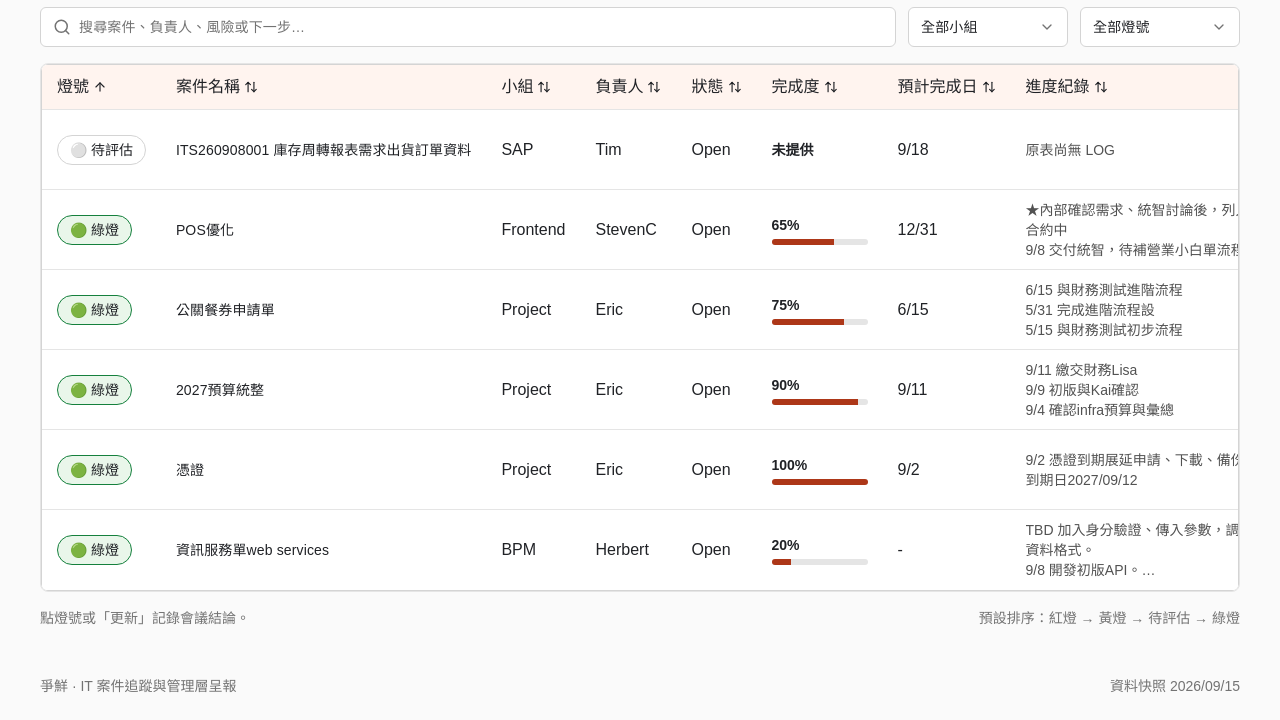
Test case: MeetingView（US-006） › 本機儲存不可用時提示僅保留至離開此頁（SC-008）
(page scrolled)
Click the button with aria-label "修改憑證燈號": (94, 470) [57,454,132,484]
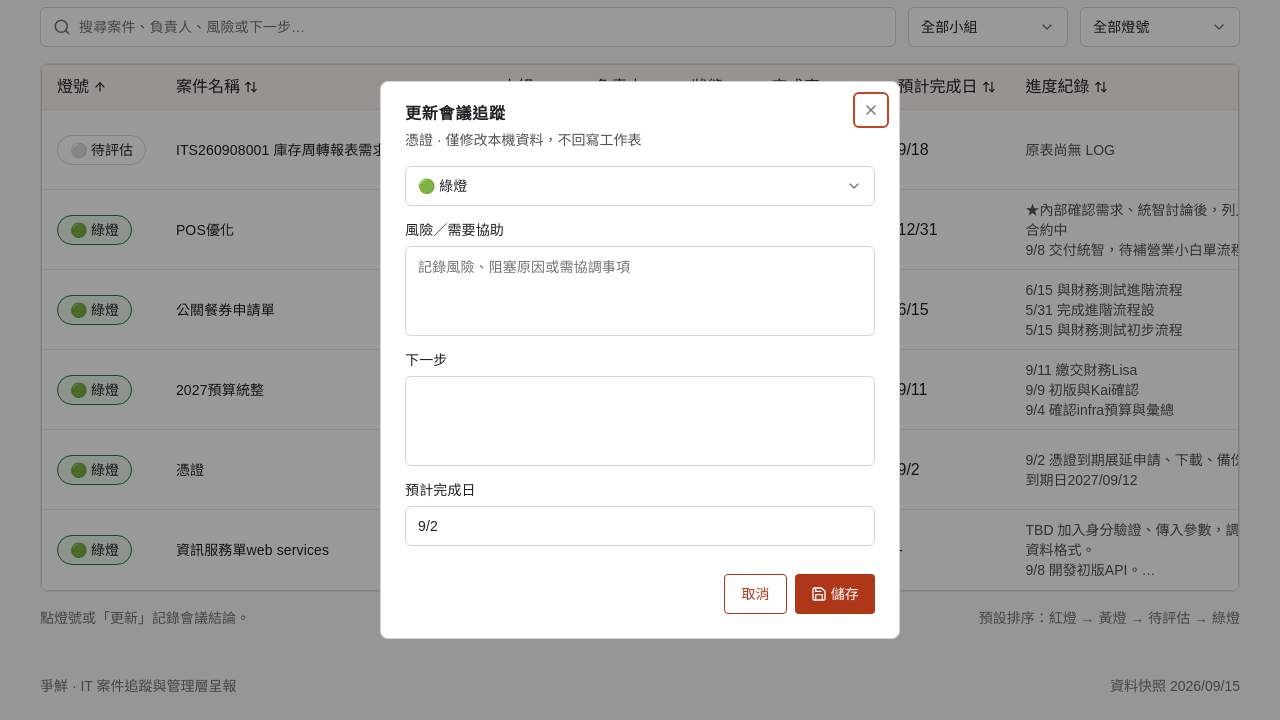
Click the dropdown named "人工燈號": (443, 186) [405,166,875,206]
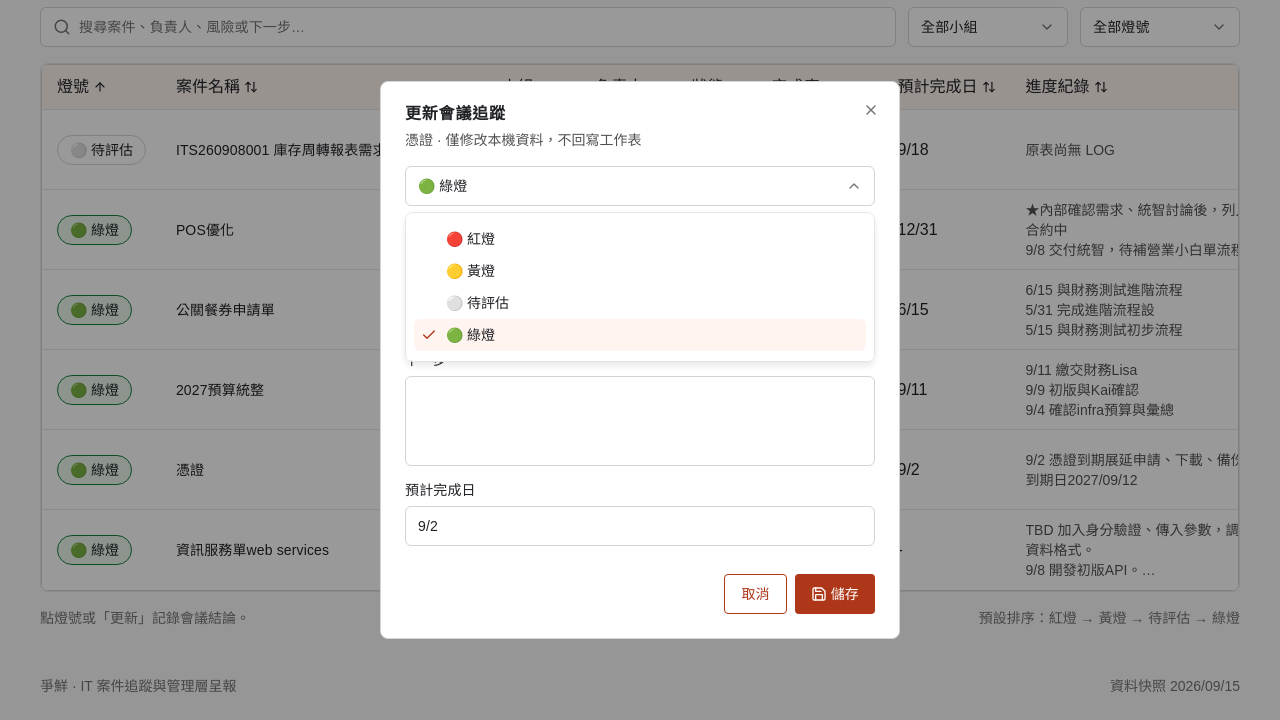
Click the option "🔴 紅燈": (470, 239) [446,231,495,247]
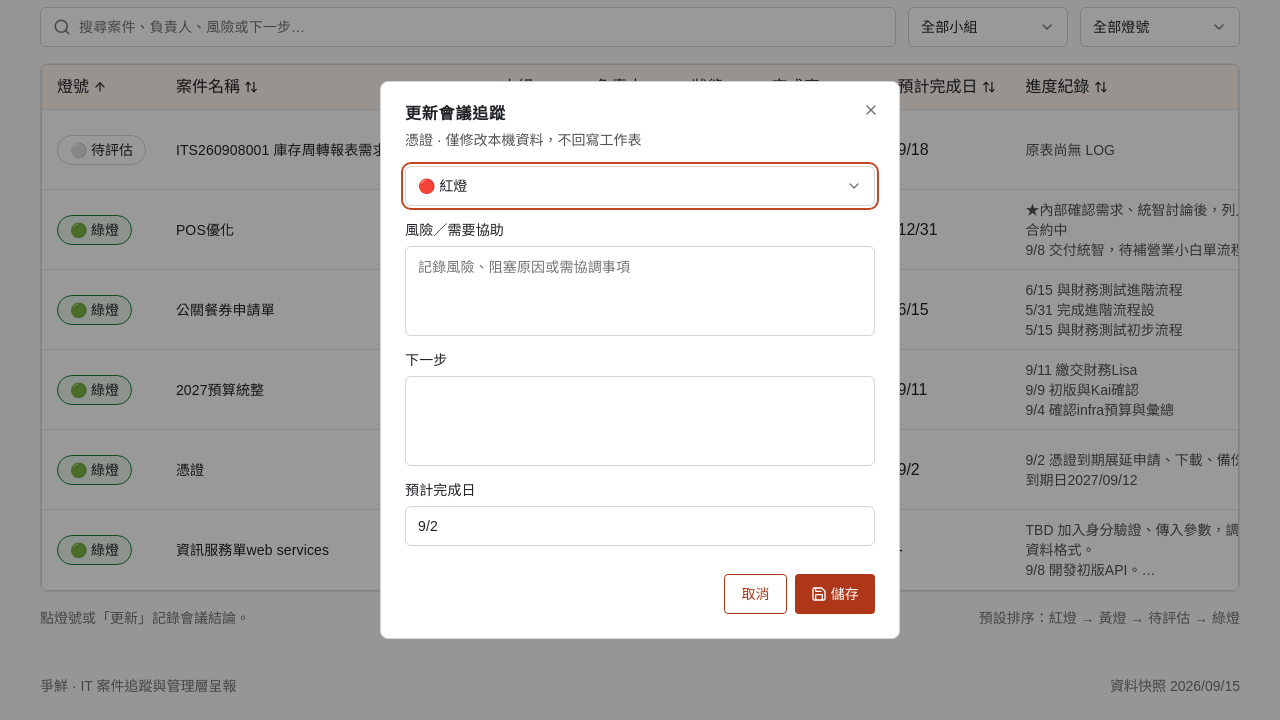
Click the button "儲存": (835, 594) [795,574,875,614]
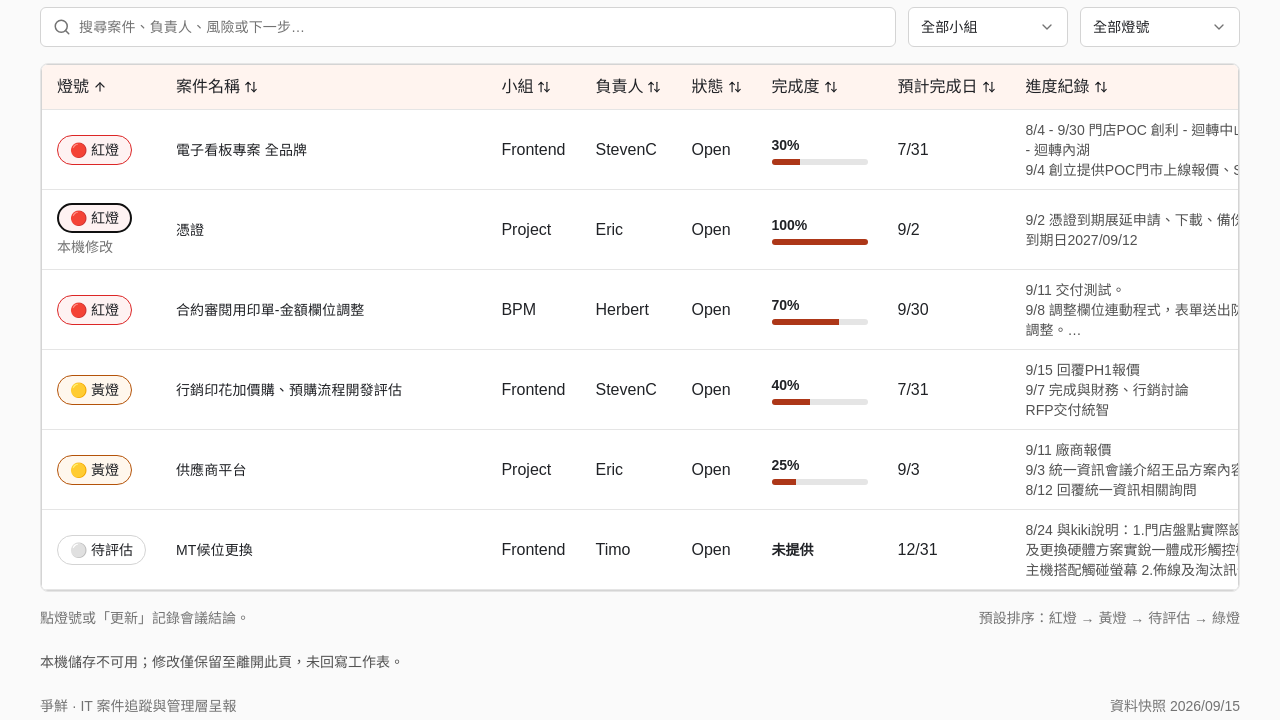
Now the message shows "僅保留至離開此頁", box [40,654,404,670]
